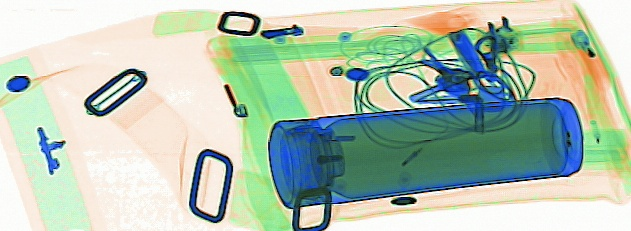lighter: (569, 25, 610, 89)
